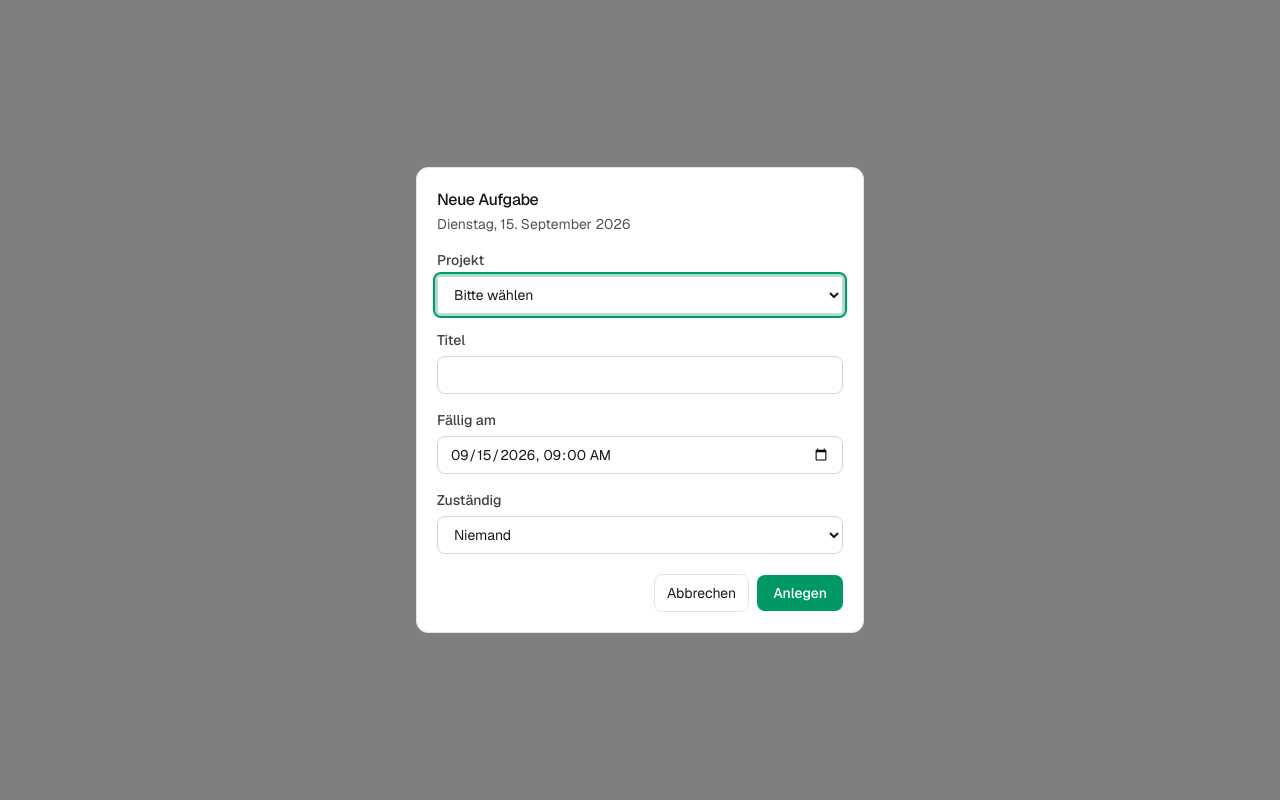
Test: TerminDialog › zeigt einen Serverfehler an, statt still zu scheitern
Select "Website-Relaunch" in the dropdown labelled "Projekt" at (640, 295), box [437,276,843,314]
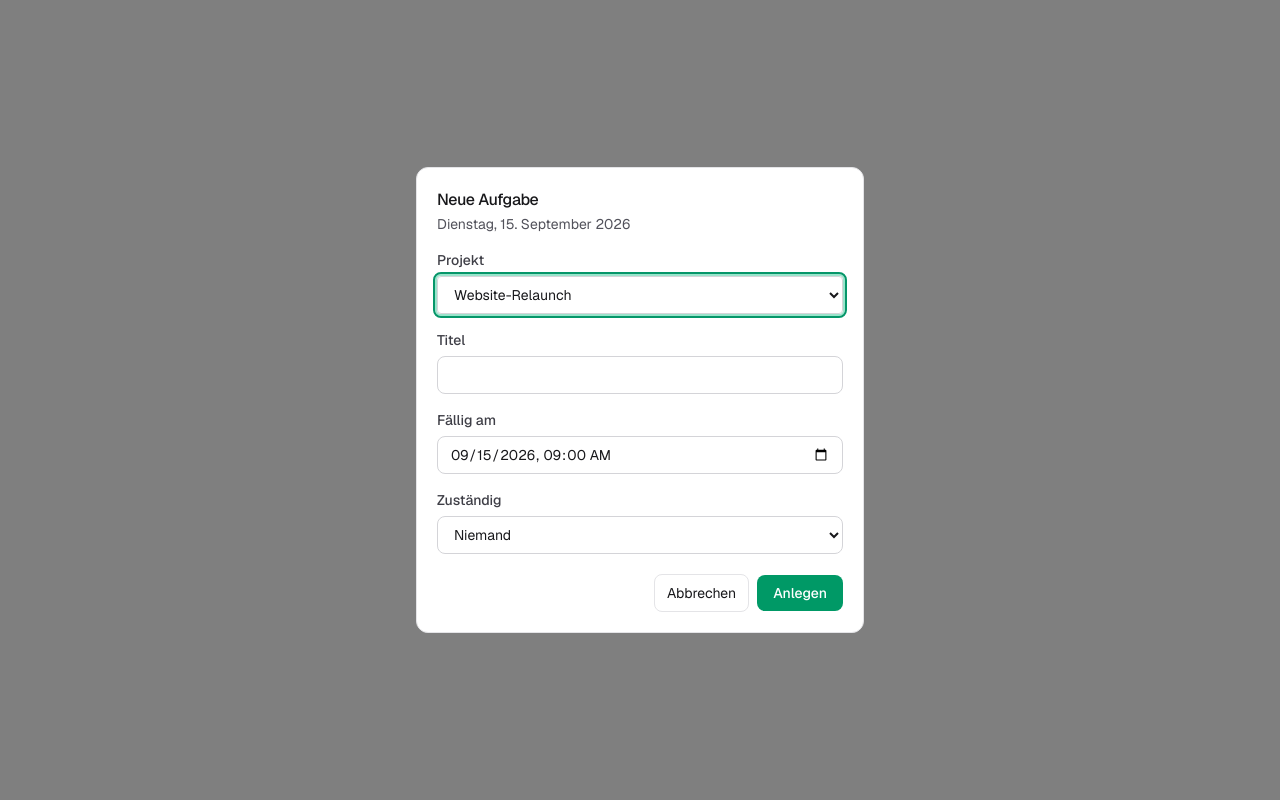
Type "Abgabe" into the field labelled "Titel" at (640, 375), box [437,356,843,394]
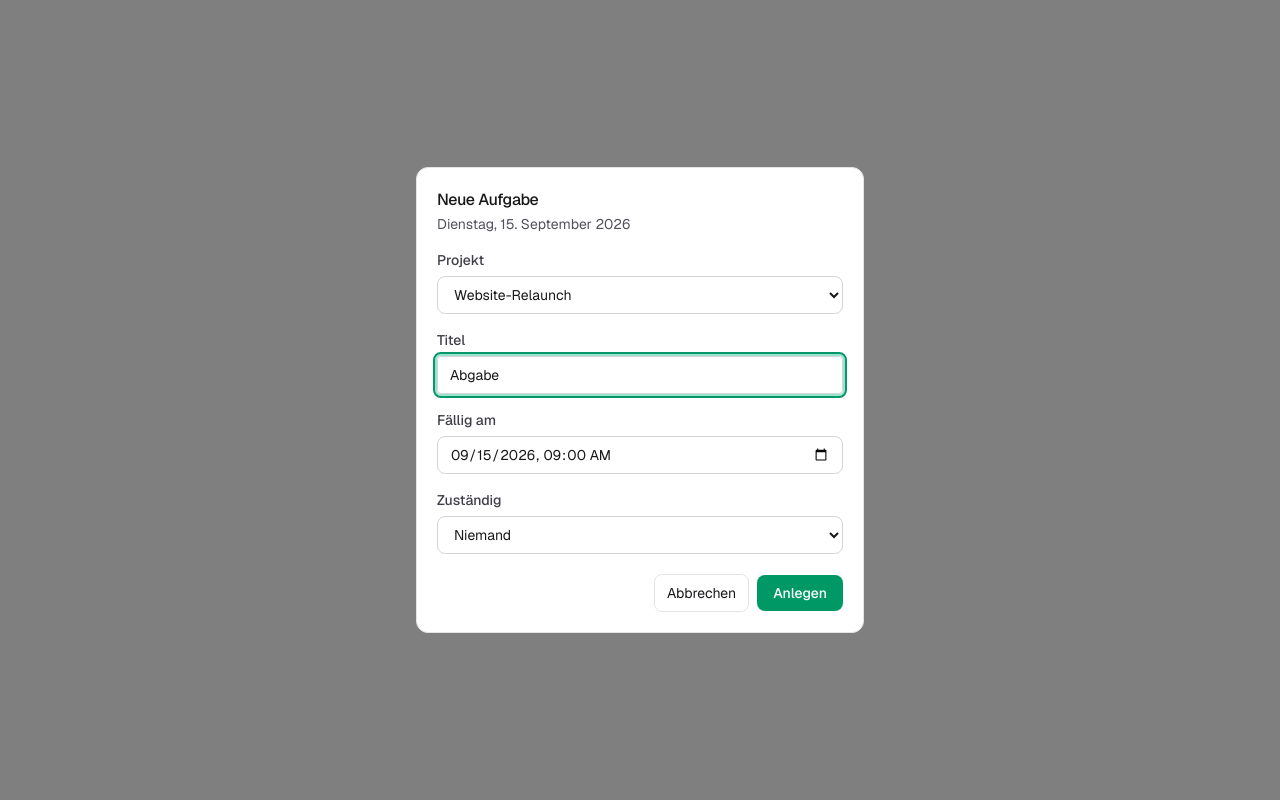
Click the button "Anlegen" at (800, 593), box [757,575,843,611]
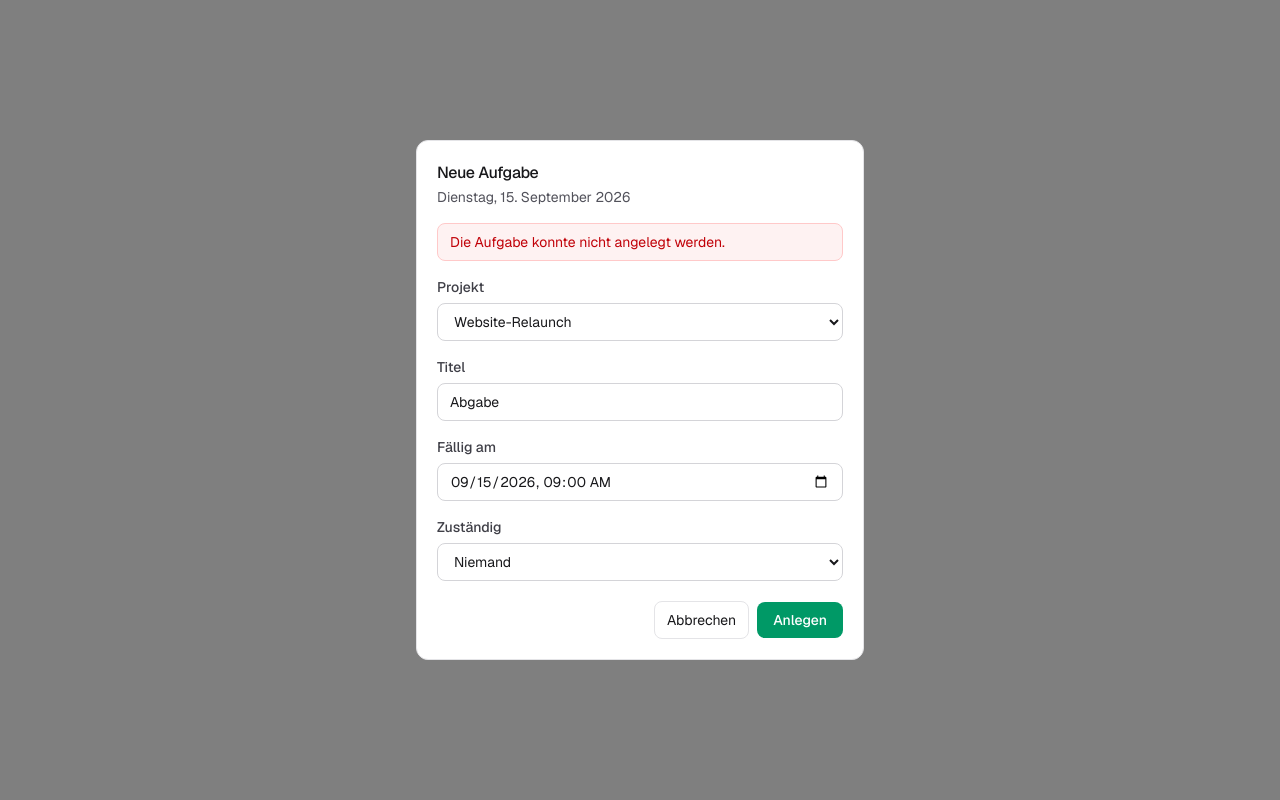
Now the text "Die Aufgabe konnte nicht angelegt werden." is shown, box [437,223,843,261]
